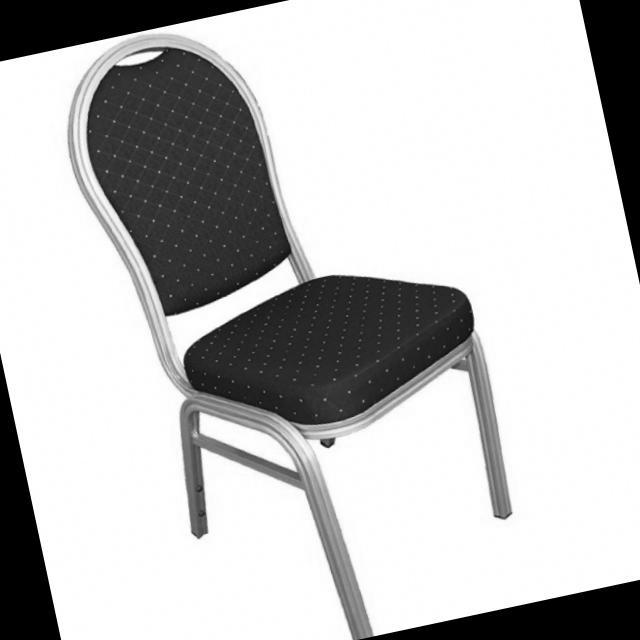chair: (47, 0, 540, 640)
